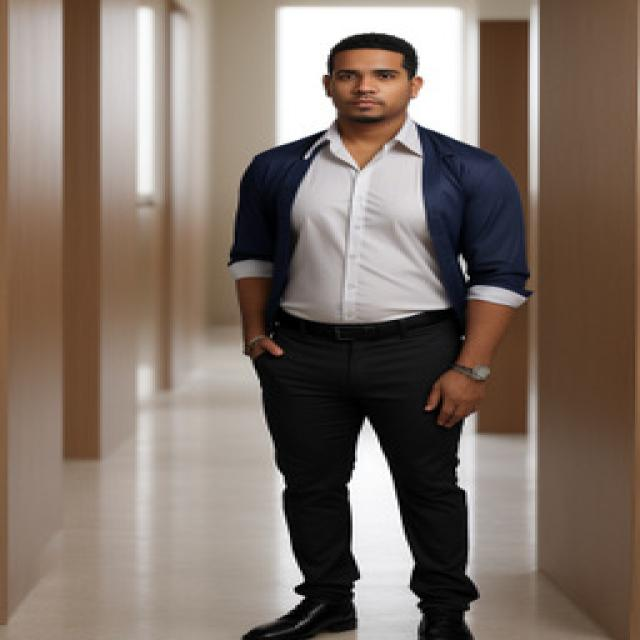Ai human 2: (214, 21, 548, 640)
